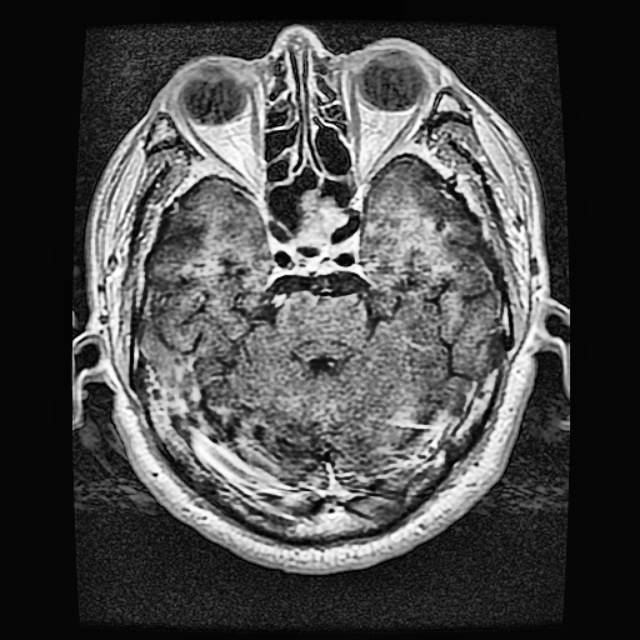Pituitary: (298, 197, 347, 243)
